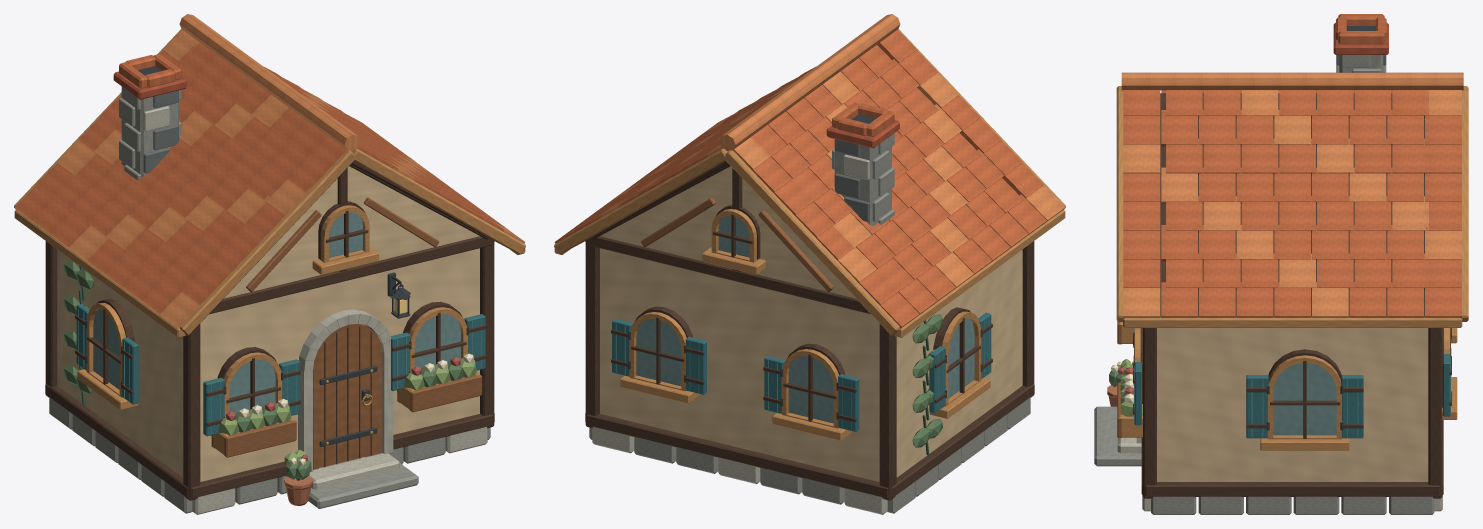
Rendered from house_willow_cottage.glb.
3 renders of one model, left to right at view 1: azimuth 30°, elevation 25°; view 2: azimuth 150°, elevation 25°; view 3: azimuth 270°, elevation 25°, orthographic. The views are drawn at different scales.
Parts seen in each view (by area): view 1: house_willow_cottage; view 2: house_willow_cottage; view 3: house_willow_cottage.
Boxes of the visible parts, left/top/right/bottom form: house_willow_cottage: left=14, top=14, right=525, bottom=514; house_willow_cottage: left=554, top=14, right=1065, bottom=514; house_willow_cottage: left=1094, top=14, right=1468, bottom=514.
Bounding box in the file's own units: 5.03 × 4.97 × 4.52.
1 material, 1 textured.
